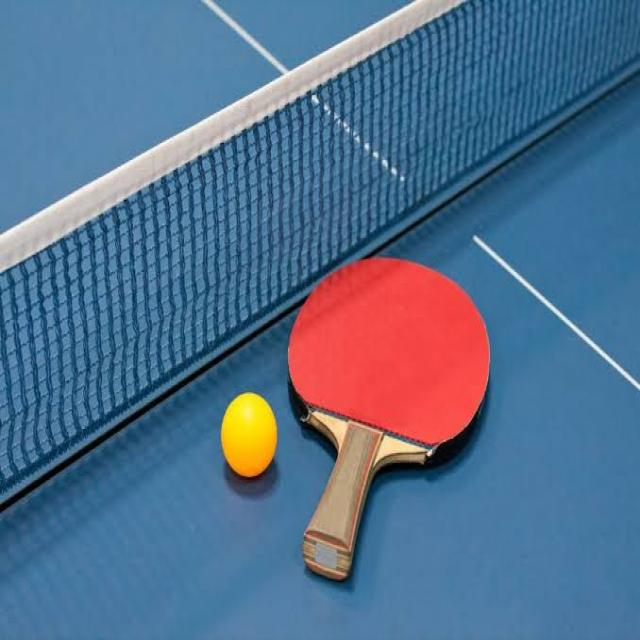TT Net: (0, 0, 639, 507)
TT Racket: (259, 231, 501, 476)
TT Table: (1, 0, 639, 639)
